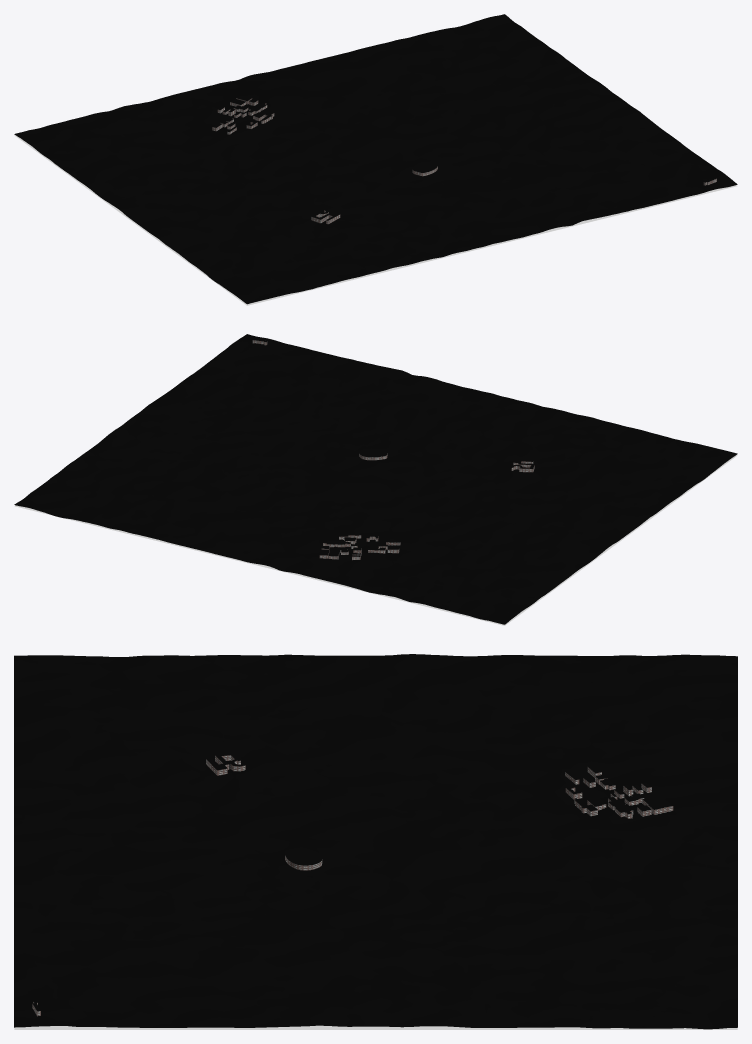
File: sport.dae
3 views of the same model, one above another, from view 1: azimuth 30°, elevation 25°; view 2: azimuth 150°, elevation 25°; view 3: azimuth 270°, elevation 25° (orthographic). The views are drawn at different scales.
Parts seen in each view (by area): view 1: Terrain, Terrain_envelope, map_38.osm_buildings, map_38.osm_buildings.001; view 2: Terrain, Terrain_envelope, map_38.osm_buildings.001, map_38.osm_buildings; view 3: Terrain, map_38.osm_buildings.001, Terrain_envelope, map_38.osm_buildings.
Boxes of the visible parts, bbox=[...] form: Terrain: bbox=[14, 14, 737, 304]; Terrain_envelope: bbox=[14, 135, 737, 305]; map_38.osm_buildings: bbox=[212, 98, 716, 224]; map_38.osm_buildings.001: bbox=[213, 95, 716, 220]; Terrain: bbox=[14, 334, 737, 624]; Terrain_envelope: bbox=[14, 455, 737, 625]; map_38.osm_buildings.001: bbox=[253, 339, 534, 556]; map_38.osm_buildings: bbox=[252, 340, 534, 560]; Terrain: bbox=[14, 654, 737, 1029]; map_38.osm_buildings.001: bbox=[32, 752, 672, 1011]; Terrain_envelope: bbox=[14, 1025, 737, 1029]; map_38.osm_buildings: bbox=[32, 755, 673, 1016].
Size of the model in its own units: 2594 by 2134 by 29.83.
